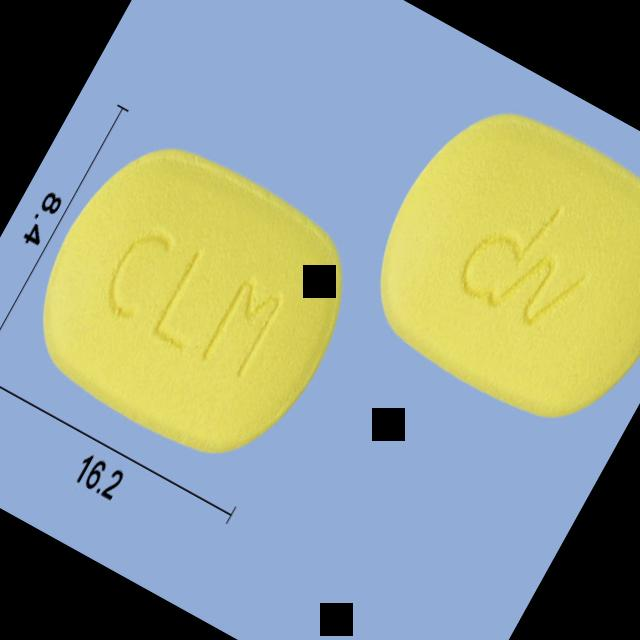Clamicin: (0, 113, 384, 494), (336, 77, 640, 458)
